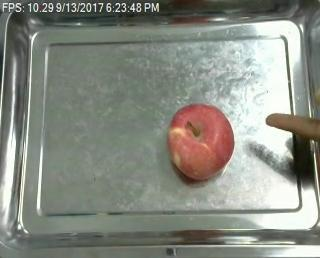apple: (168, 102, 235, 180)
